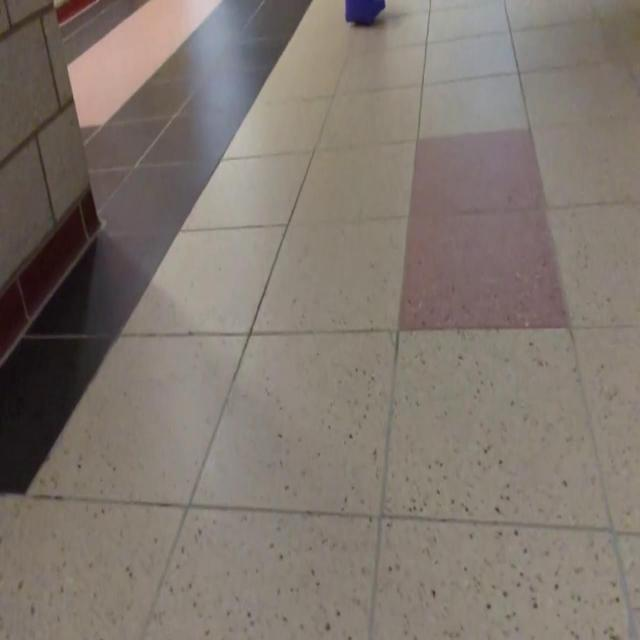frc_cube: (344, 0, 386, 25)
